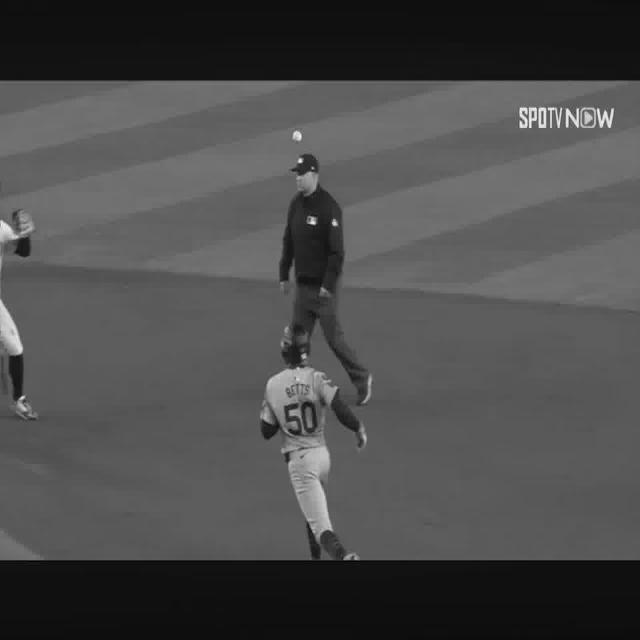baseball: (292, 130, 302, 142)
baseball_glove: (12, 210, 35, 237)
shoe: (15, 395, 38, 420), (356, 373, 372, 407)
